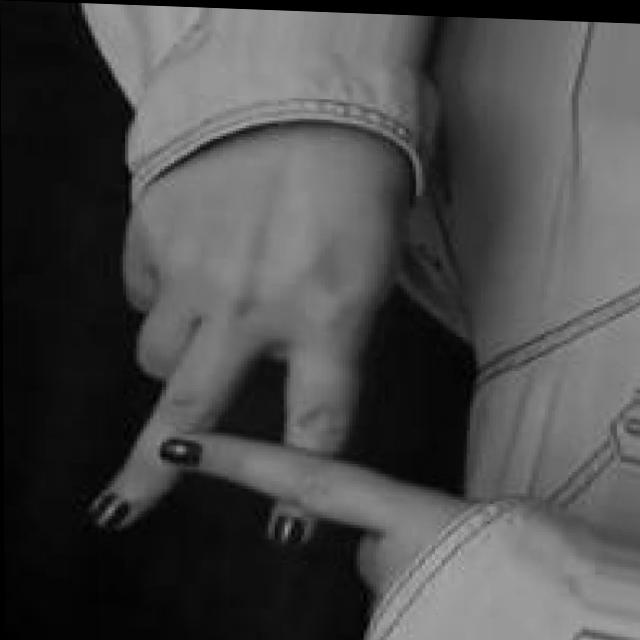A: (83, 109, 501, 609)
